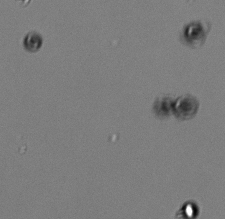Dead Cell: (175, 92, 199, 120), (154, 94, 175, 118), (184, 21, 206, 43), (23, 33, 43, 52)
Living Cell: (181, 200, 200, 218)
